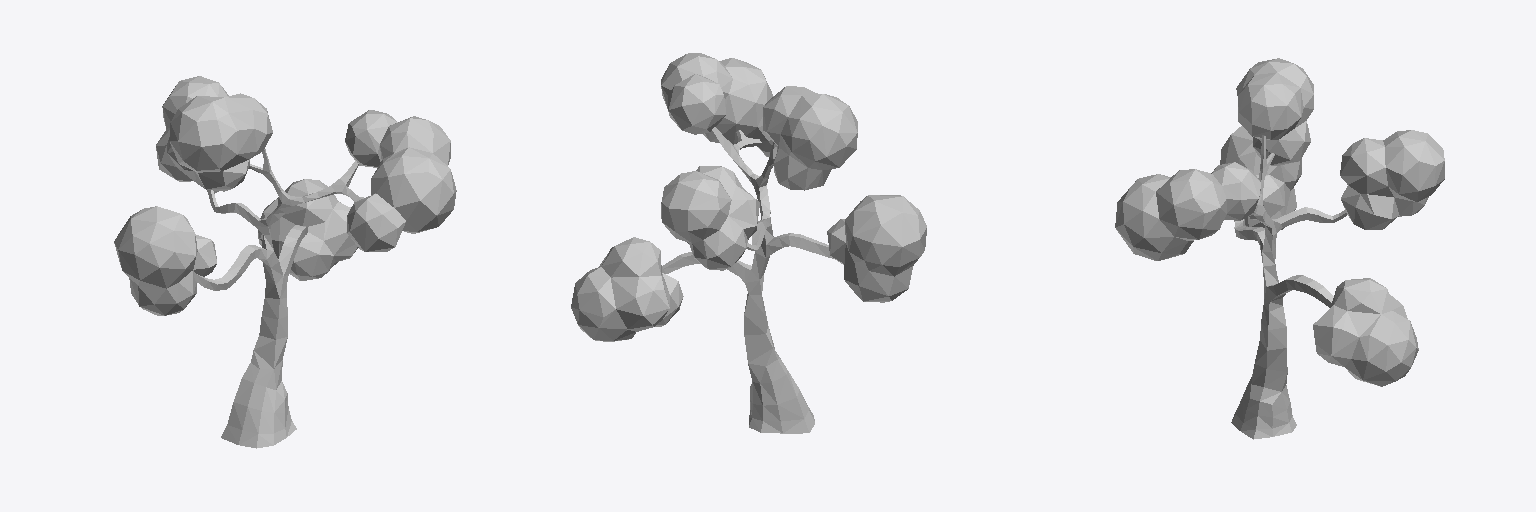
File: tree2.obj
3 renders of one model, left to right at view 1: azimuth 30°, elevation 25°; view 2: azimuth 150°, elevation 25°; view 3: azimuth 270°, elevation 25°, orthographic.
Parts seen in each view (by area): view 1: LowPoly_Tree_04_lowpoly_tree_05_Mesh.001; view 2: LowPoly_Tree_04_lowpoly_tree_05_Mesh.001; view 3: LowPoly_Tree_04_lowpoly_tree_05_Mesh.001.
Part boxes in pixels (bbox=[...]): LowPoly_Tree_04_lowpoly_tree_05_Mesh.001: bbox=[114, 76, 456, 448]; LowPoly_Tree_04_lowpoly_tree_05_Mesh.001: bbox=[571, 53, 926, 433]; LowPoly_Tree_04_lowpoly_tree_05_Mesh.001: bbox=[1115, 58, 1444, 439].
Size of the model in its own units: 2.92 by 3.29 by 2.88.